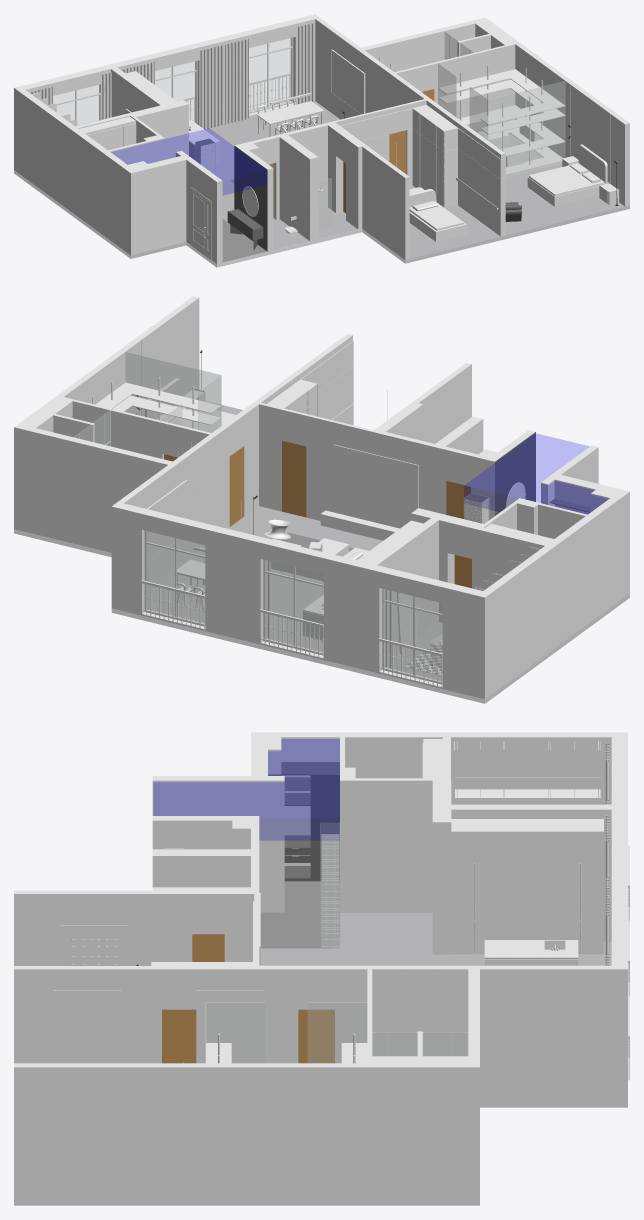
The model's file is colorbloc.glb.
3 renders of one model, top to bottom at view 1: azimuth 30°, elevation 25°; view 2: azimuth 150°, elevation 25°; view 3: azimuth 270°, elevation 25°, orthographic. The views are drawn at different scales.
Size of the model in its own units: 18675 by 3592 by 14509.
